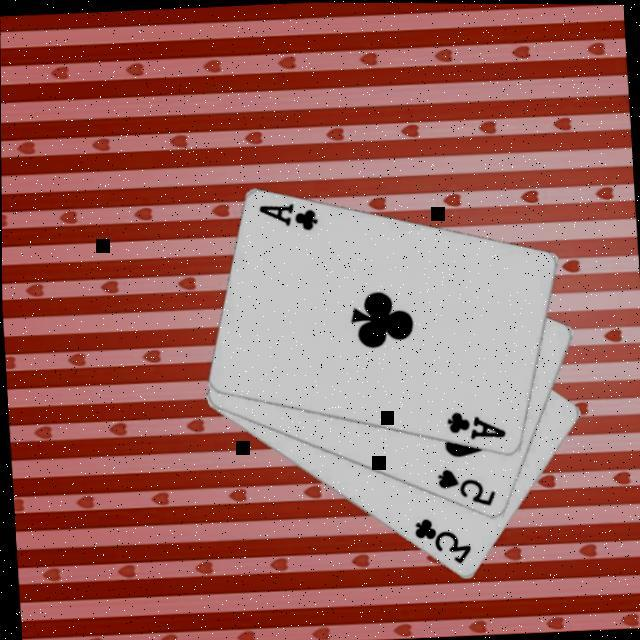3C: (410, 515, 475, 571)
5S: (435, 465, 499, 513)
AC: (256, 200, 322, 238), (444, 408, 509, 446)
